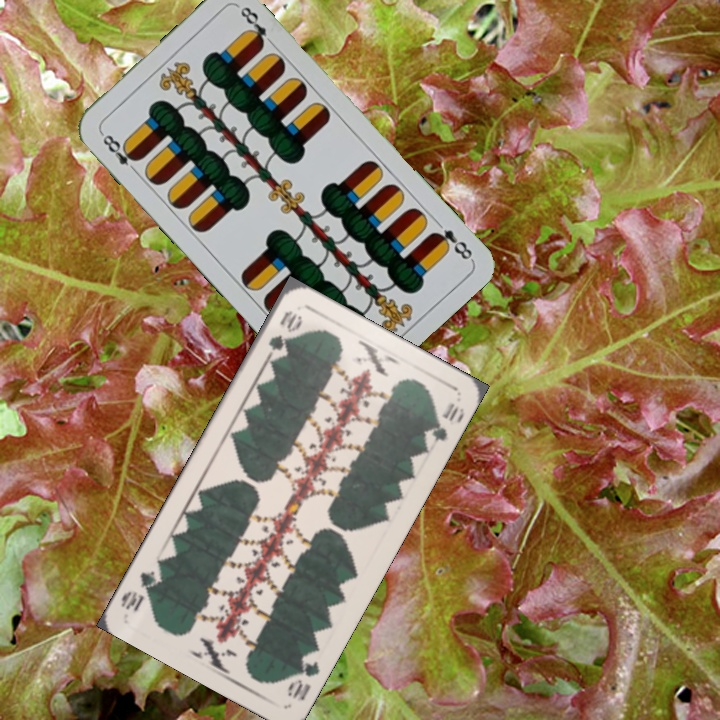E8: (96, 128, 142, 176), (428, 225, 475, 263)
G10: (263, 306, 305, 361), (283, 647, 322, 704)
